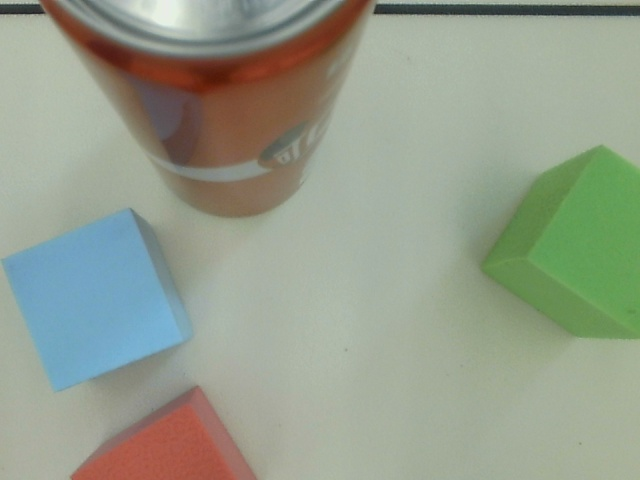bluecube: (5, 205, 210, 397)
cola: (30, 1, 375, 220)
greencube: (472, 141, 640, 341)
redcube: (65, 383, 263, 480)
